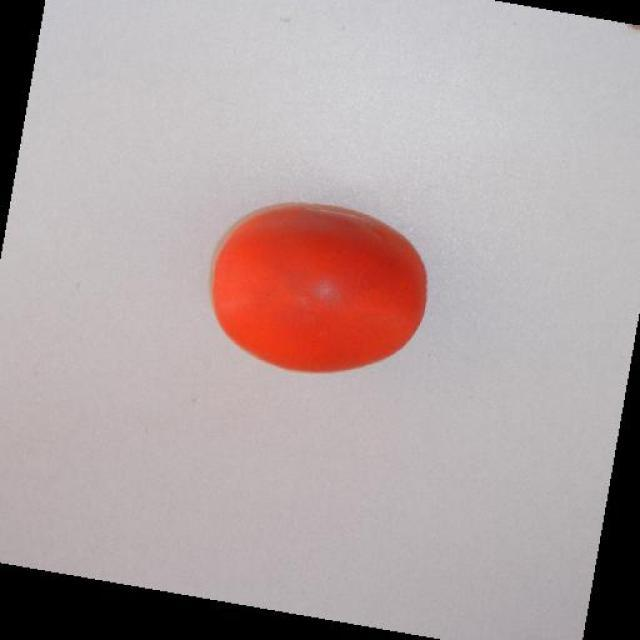Fresh Tomato: (198, 185, 444, 390)
